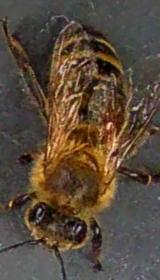varroa_mite: (98, 116, 120, 142)
